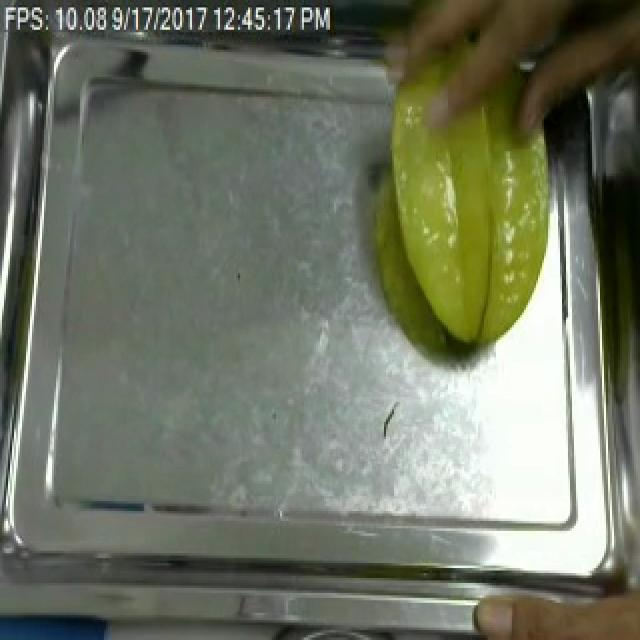fruit: (374, 57, 568, 360), (464, 565, 640, 640)
